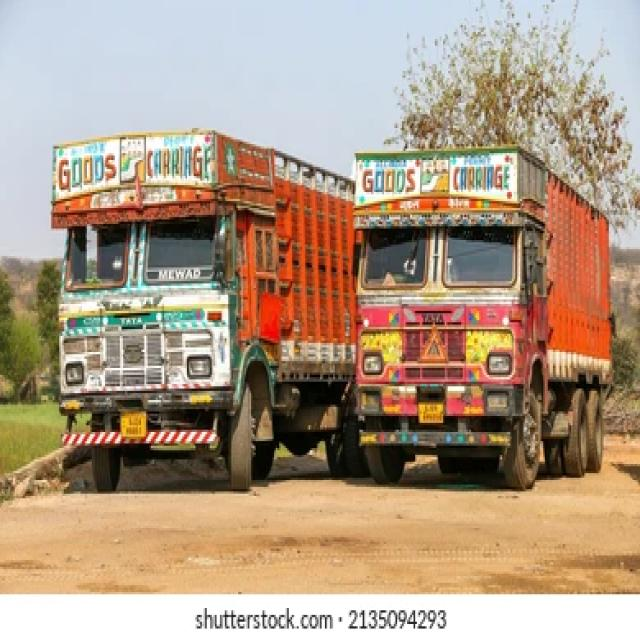Vehicles: (36, 131, 364, 497), (342, 122, 625, 514)
